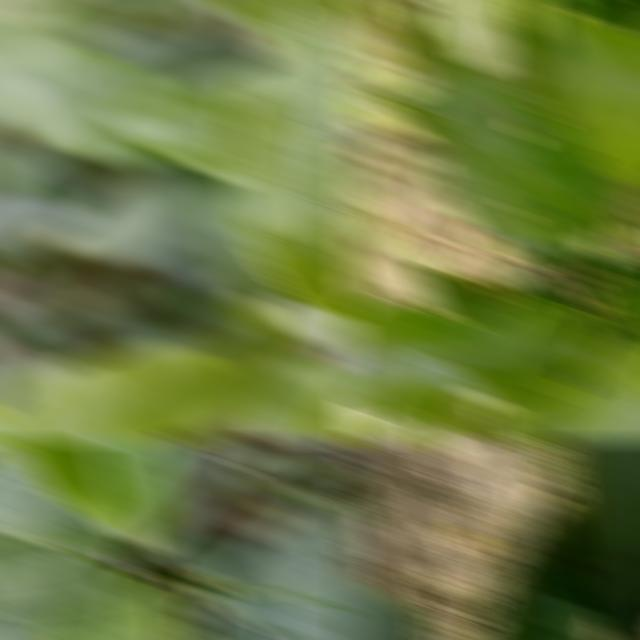Leaf: (218, 0, 361, 316), (376, 67, 619, 252), (0, 343, 257, 444), (0, 38, 178, 167), (101, 64, 265, 184), (4, 438, 179, 550), (477, 500, 612, 640), (543, 6, 640, 190), (343, 298, 489, 420), (218, 485, 361, 604), (437, 301, 598, 405), (559, 438, 640, 640), (70, 162, 223, 264), (0, 438, 127, 553), (0, 535, 135, 640), (432, 0, 549, 96), (249, 353, 359, 444), (544, 342, 640, 444), (42, 574, 180, 640), (197, 588, 361, 640), (0, 2, 120, 59), (405, 259, 507, 326), (0, 189, 87, 257), (343, 580, 439, 640), (406, 0, 473, 83), (523, 4, 571, 117), (472, 395, 565, 444), (297, 375, 361, 444), (544, 0, 638, 36), (595, 279, 640, 350), (367, 412, 453, 444)
